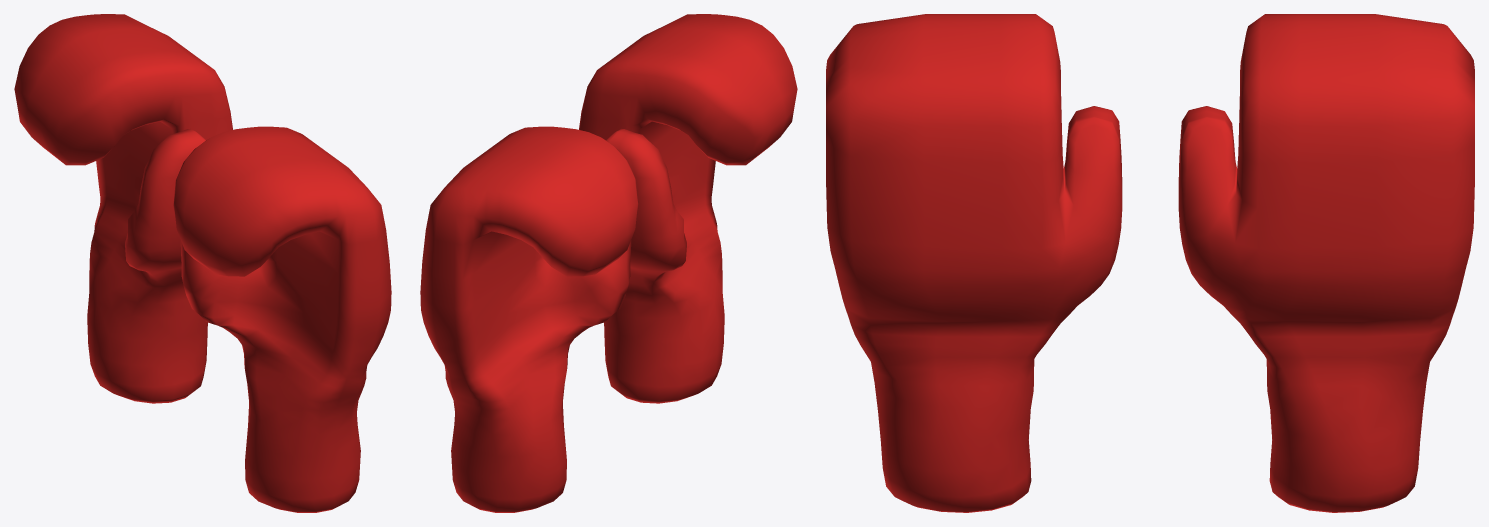
The model's file is bxglvsp.dae.
3 views of the same model, side by side, from view 1: azimuth 30°, elevation 25°; view 2: azimuth 150°, elevation 25°; view 3: azimuth 270°, elevation 25° (orthographic). The views are drawn at different scales.
Visible parts, largest first — view 1: Cube, Cube_015; view 2: Cube_015, Cube; view 3: Cube, Cube_015.
Boxes of the visible parts, bbox=[...] form: Cube: bbox=[173, 126, 391, 512]; Cube_015: bbox=[14, 14, 232, 403]; Cube_015: bbox=[420, 126, 638, 512]; Cube: bbox=[579, 14, 797, 403]; Cube: bbox=[826, 14, 1122, 512]; Cube_015: bbox=[1178, 14, 1474, 512].
Bounding box in the file's own units: 4.36 × 11.55 × 8.65.
